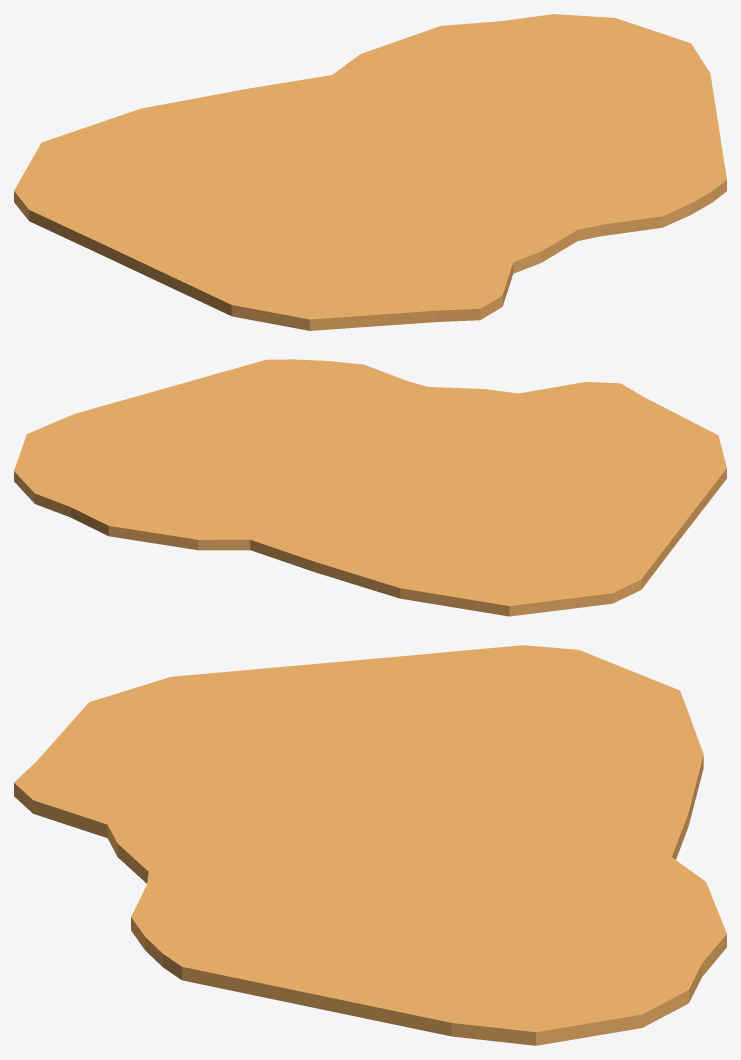
Rendered from Sand 25.FBX.
3 renders of one model, top to bottom at view 1: azimuth 30°, elevation 25°; view 2: azimuth 150°, elevation 25°; view 3: azimuth 270°, elevation 25°, orthographic. The views are drawn at different scales.
Visible parts, largest first — view 1: Plane001; view 2: Plane001; view 3: Plane001.
Part boxes in pixels (box(x1,y1,x2,y2)): Plane001: box(14, 14, 726, 330); Plane001: box(14, 359, 726, 616); Plane001: box(14, 645, 726, 1045).
Bounding box in the file's own units: 133 × 2.18 × 104.
